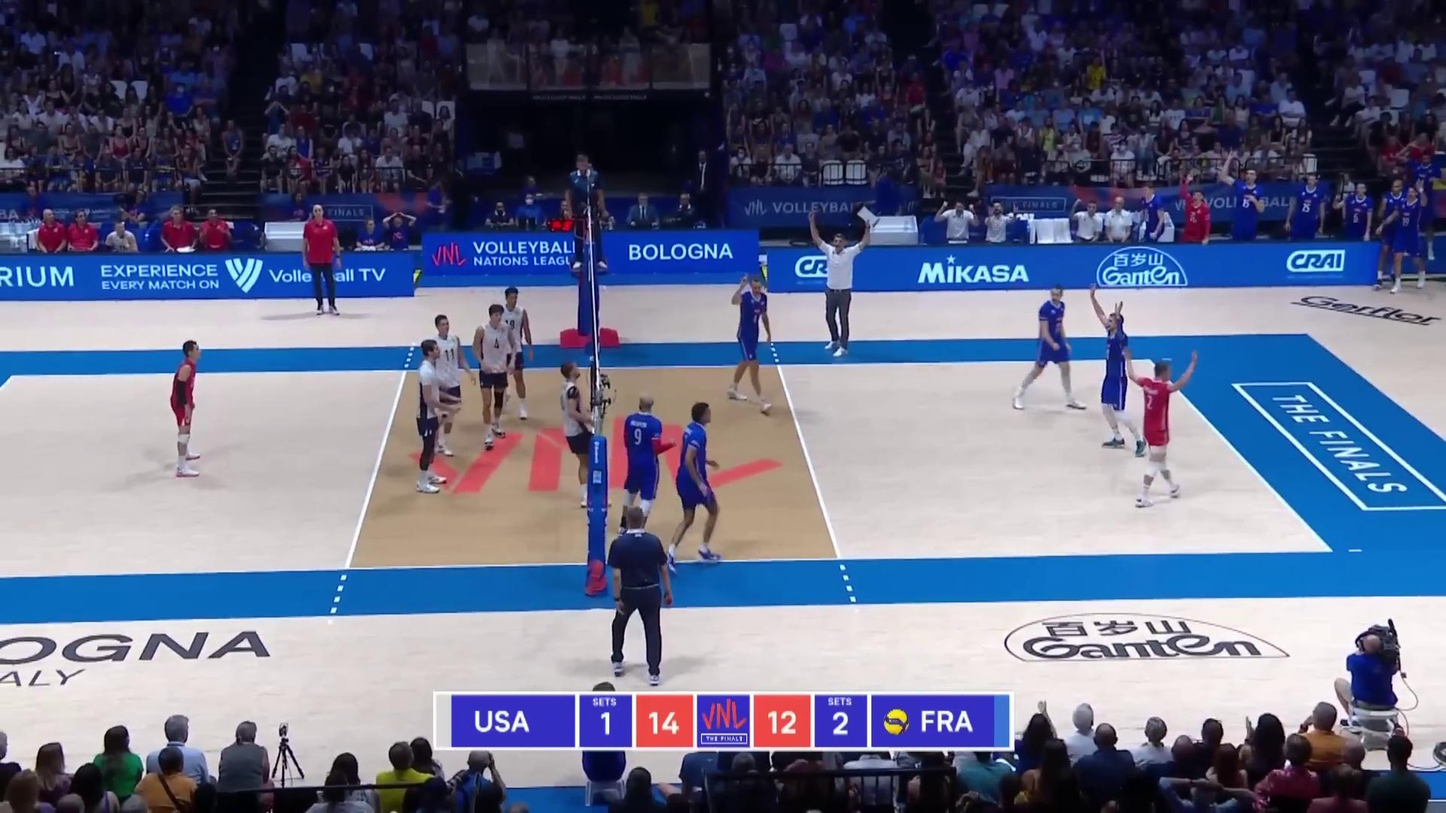player: (665, 401, 725, 565), (1129, 352, 1182, 508), (616, 395, 675, 532), (1009, 288, 1075, 409), (410, 339, 461, 495), (417, 315, 465, 465), (732, 271, 782, 408), (475, 304, 515, 454), (489, 286, 532, 422), (555, 360, 593, 500), (1100, 309, 1137, 450), (167, 342, 201, 477)
refree: (607, 506, 677, 679), (567, 155, 604, 269)
